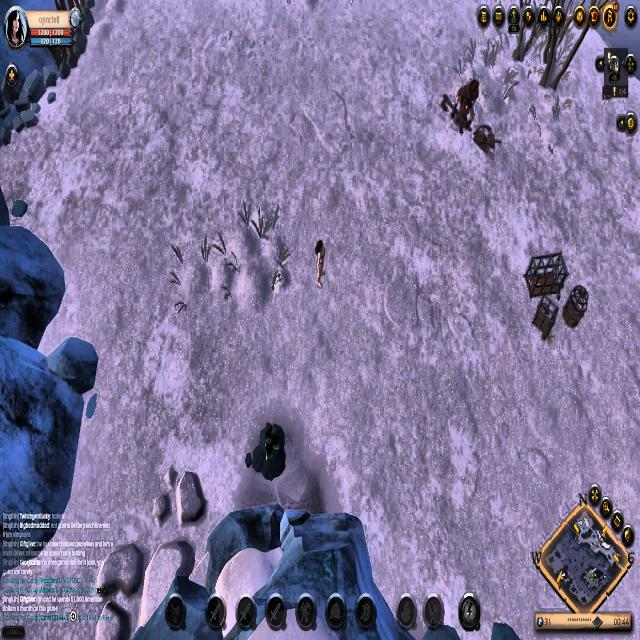mob: (442, 71, 481, 141)
tin_ore: (244, 421, 292, 481)
